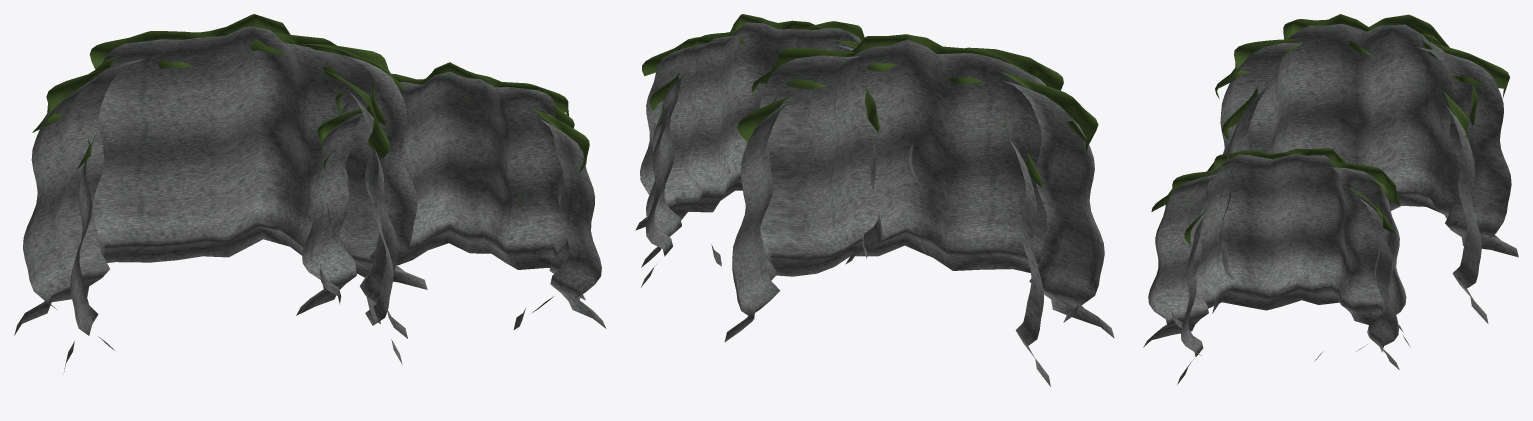
Rendered from karst-island-01.glb.
3 renders of one model, left to right at view 1: azimuth 30°, elevation 25°; view 2: azimuth 150°, elevation 25°; view 3: azimuth 270°, elevation 25°, orthographic. The views are drawn at different scales.
Visible parts, largest first — view 1: Cliff_LOD0, Canopy_LOD0; view 2: Cliff_LOD0, Canopy_LOD0; view 3: Cliff_LOD0, Canopy_LOD0.
Part boxes in pixels (x1,y1,x2,y2): Cliff_LOD0: [14, 26, 606, 371]; Canopy_LOD0: [32, 14, 589, 208]; Cliff_LOD0: [635, 22, 1114, 386]; Canopy_LOD0: [642, 14, 1098, 187]; Cliff_LOD0: [1143, 23, 1518, 384]; Canopy_LOD0: [1151, 14, 1509, 246].
Size of what is drawn, in the model's own units: 289 by 149 by 226.
2 materials, 2 textured.
